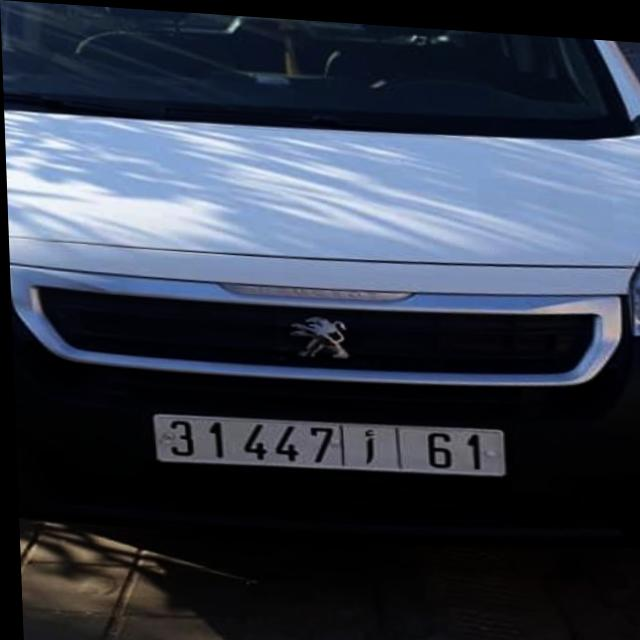License-Plate: (151, 412, 504, 470)
